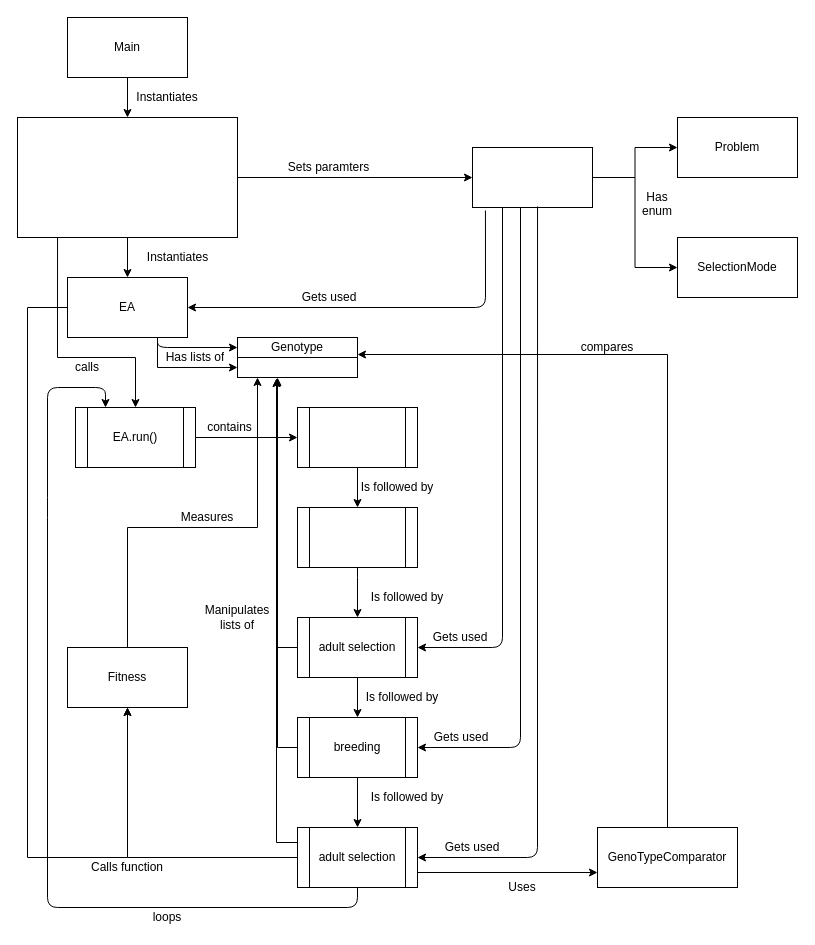
Image size: 815x945. Some labels were removed from this diagram. The shapes that lost their labels are listed below. From the top down, each one's box as (x1, y1, x2, y2) in pixels, then its label:
(16, 116, 238, 238): MainPanel
(472, 146, 592, 208): Paramters
(236, 356, 358, 378): SurpSeqGene
(296, 406, 418, 468): logging
(296, 506, 418, 568): Potential loop exit point
